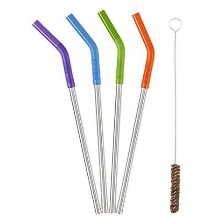drinking_straw: (28, 16, 105, 216), (113, 8, 160, 217)
